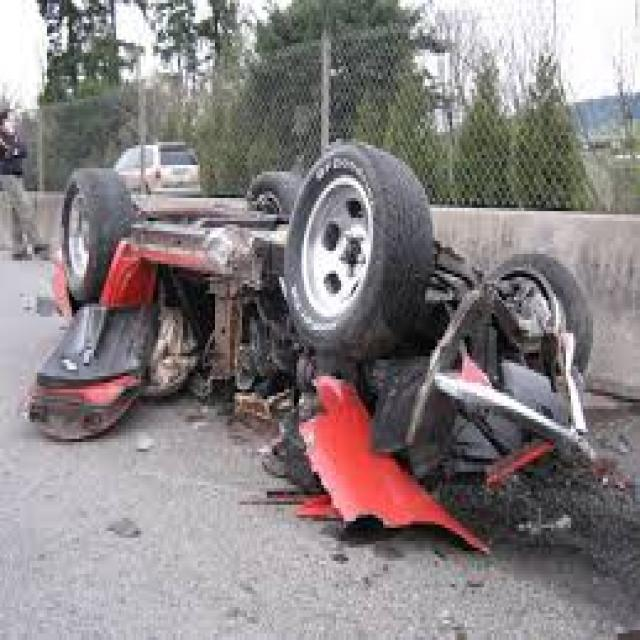severe: (47, 151, 537, 640)
